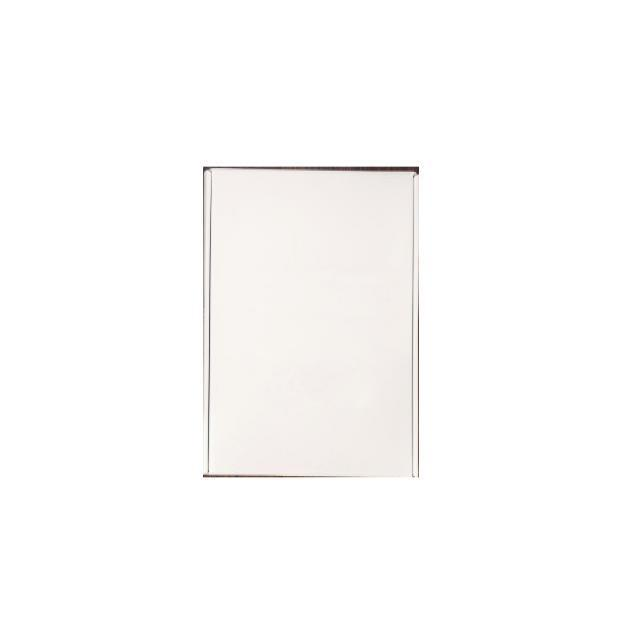box: (204, 166, 415, 472)
